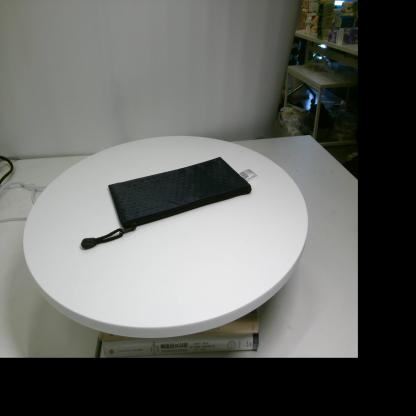Stationery: (81, 156, 258, 250)
